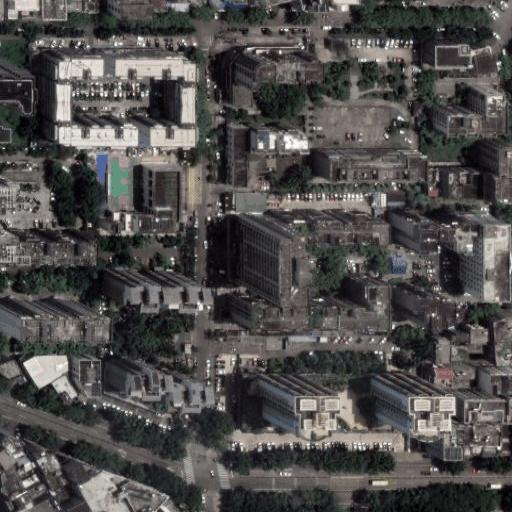building: (226, 270, 361, 315), (108, 170, 186, 236), (103, 271, 193, 300), (315, 146, 412, 172), (0, 299, 84, 326), (78, 470, 130, 512), (455, 213, 482, 290), (391, 213, 455, 243), (291, 209, 369, 233), (259, 374, 304, 415), (252, 223, 279, 289), (101, 52, 181, 74), (43, 120, 124, 141), (33, 446, 69, 492), (372, 378, 418, 413), (23, 356, 68, 390), (231, 60, 300, 82), (114, 352, 161, 383), (435, 423, 480, 454), (161, 363, 202, 396), (395, 289, 445, 316), (0, 227, 55, 251), (474, 397, 512, 423), (12, 484, 50, 510), (439, 166, 475, 193), (45, 52, 90, 73), (435, 399, 474, 423), (137, 122, 183, 142), (226, 187, 264, 210), (435, 46, 474, 68), (74, 347, 96, 385), (51, 374, 78, 403), (428, 110, 468, 129), (229, 126, 242, 183), (0, 57, 18, 97), (477, 368, 511, 389), (0, 165, 37, 183), (468, 90, 485, 128), (266, 124, 297, 144), (417, 424, 434, 460), (451, 334, 472, 362), (481, 179, 503, 203), (486, 147, 502, 179), (498, 423, 512, 459), (120, 5, 152, 20), (42, 78, 54, 114), (495, 305, 512, 330), (421, 168, 436, 195), (246, 124, 266, 144), (71, 466, 91, 486), (447, 368, 468, 387), (169, 81, 180, 116), (495, 330, 512, 352), (234, 86, 253, 105), (474, 58, 496, 74), (26, 500, 55, 512), (436, 341, 451, 364), (14, 460, 34, 477), (426, 368, 447, 384), (472, 328, 489, 345), (153, 500, 177, 512), (21, 474, 39, 489), (388, 192, 407, 206), (1, 437, 16, 454), (67, 501, 90, 512), (373, 192, 388, 208), (327, 0, 360, 7), (474, 48, 494, 58), (170, 2, 190, 11), (394, 258, 406, 273), (224, 4, 250, 9), (224, 0, 250, 4), (472, 345, 483, 353), (375, 208, 382, 215)
